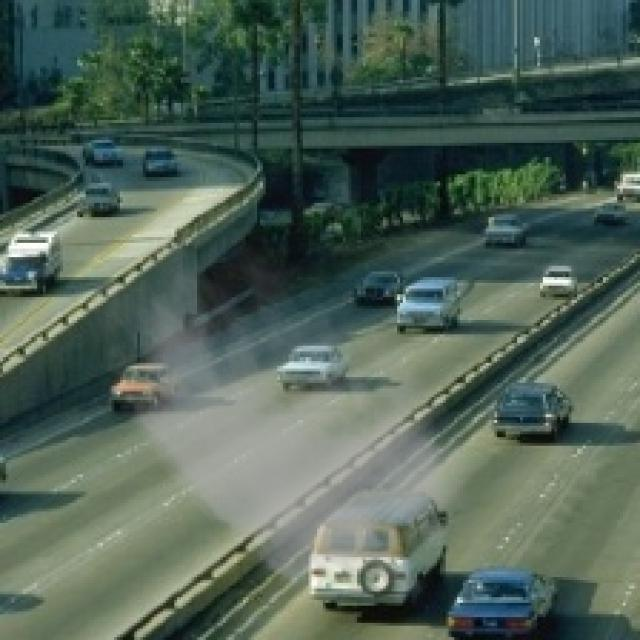Smoke: (86, 208, 488, 614)
